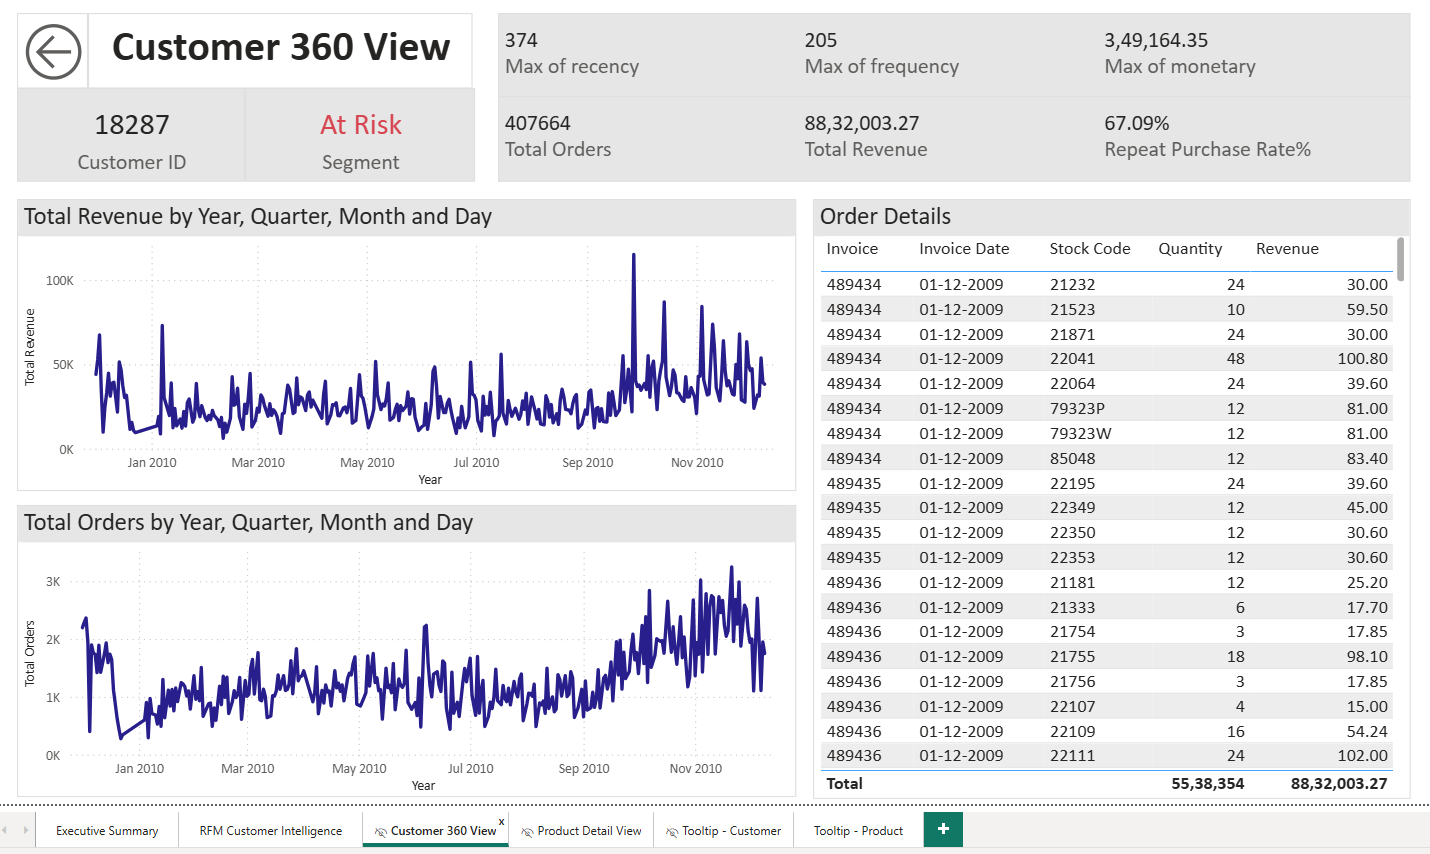

This screenshot's page, from the dashboard's own definition file:
{"tool":"powerbi","page":{"name":"Customer 360 View","canvas":[1280,720],"ordinal":2},"visuals":[{"type":"textbox","box":[87.1,18.5,340.8,66.7],"z":0},{"type":"card","fields":{"Values":["Max(dim_customer.customer_id)"]},"box":[24.1,85.2,201.9,83.4],"z":1000},{"type":"card","fields":{"Values":["Min(customer_rfm.rfm_segment)"]},"box":[226,85.2,203.8,83.4],"z":2000},{"type":"multiRowCard","fields":{"Values":["customer_rfm.recency","customer_rfm.frequency","customer_rfm.monetary"]},"box":[450.1,18.5,809.5,75],"z":3000},{"type":"multiRowCard","fields":{"Values":["fact_sales.invoice","fact_sales.Total Revenue","fact_sales.Repeat Purchase Rate%"]},"box":[450.1,92.6,809.5,75.9],"z":4000},{"type":"lineChart","fields":{"Y":["fact_sales.Total Revenue"],"Category":["date_dim.date.Variation.Date Hierarchy.Year","date_dim.date.Variation.Date Hierarchy.Quarter","date_dim.date.Variation.Date Hierarchy.Month","date_dim.date.Variation.Date Hierarchy.Day"]},"box":[24.1,183.4,690.9,259.3],"z":5000},{"type":"lineChart","fields":{"Y":["CountNonNull(fact_sales.invoice)"],"Category":["date_dim.date.Variation.Date Hierarchy.Year","date_dim.date.Variation.Date Hierarchy.Quarter","date_dim.date.Variation.Date Hierarchy.Month","date_dim.date.Variation.Date Hierarchy.Day"]},"box":[24.1,455,690.9,259.3],"z":6000},{"type":"tableEx","title":"Order Details","fields":{"Values":["fact_sales.invoice","fact_sales.invoicedate","fact_sales.stockcode","Sum(fact_sales.quantity)","Sum(fact_sales.revenue)"]},"box":[729.8,183.4,529.8,531.6],"z":7000},{"type":"actionButton","box":[24.1,18.5,63,66.7],"z":8000}]}

Visuals, with their boxes on the page's 1280x720 design canvas (x1, y1, x2, y2). These are canvas units, not pixel positions in the 1430x854 screenshot, which may show the page scaled, cropped or inside an application window:
textbox: box=[87, 18, 428, 85]
card - Max(dim_customer.customer_id): box=[24, 85, 226, 169]
card - Min(customer_rfm.rfm_segment): box=[226, 85, 430, 169]
multiRowCard - customer_rfm.recency x customer_rfm.frequency: box=[450, 18, 1260, 94]
multiRowCard - fact_sales.invoice x fact_sales.Total Revenue: box=[450, 93, 1260, 168]
lineChart - fact_sales.Total Revenue x date_dim.date.Variation.Date Hierarchy.Year: box=[24, 183, 715, 443]
lineChart - CountNonNull(fact_sales.invoice) x date_dim.date.Variation.Date Hierarchy.Year: box=[24, 455, 715, 714]
"Order Details" tableEx: box=[730, 183, 1260, 715]
actionButton: box=[24, 18, 87, 85]
